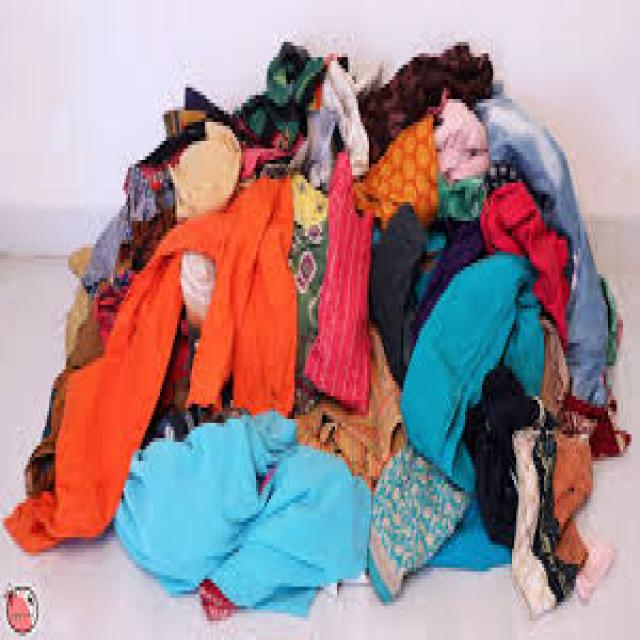Clothes -Biodegradable-: (7, 45, 622, 620)
